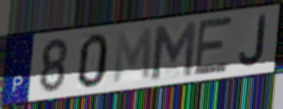0: (76, 31, 112, 90)
8: (38, 37, 70, 95)
E: (192, 14, 235, 78)
J: (237, 13, 269, 69)
M: (150, 19, 199, 82), (111, 25, 155, 87)
